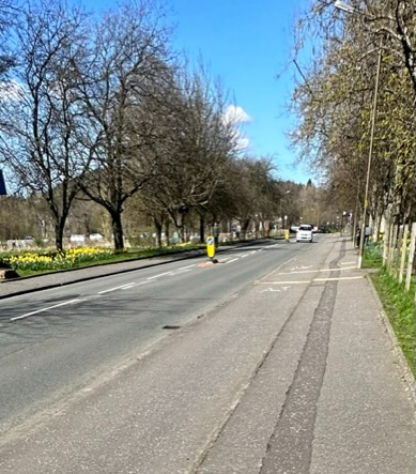car: (294, 220, 335, 249)
tree: (0, 0, 90, 248), (120, 38, 224, 242), (69, 0, 147, 243), (231, 152, 279, 244)
